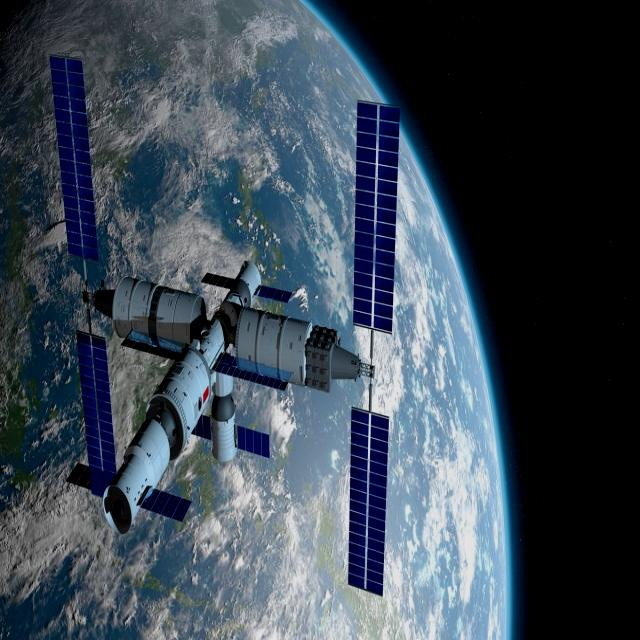medium_debris: (50, 58, 400, 594)
